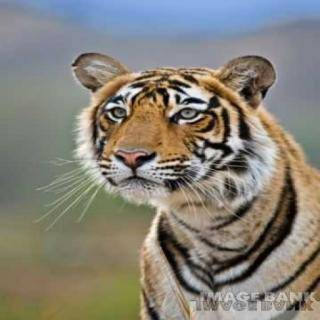Tiger: (59, 27, 309, 284)
